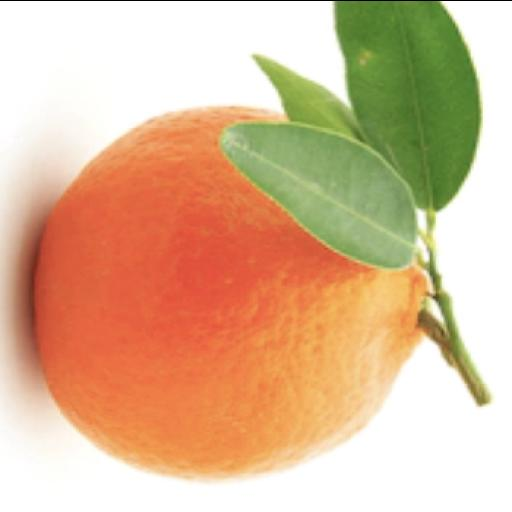orange: (33, 107, 426, 479)
